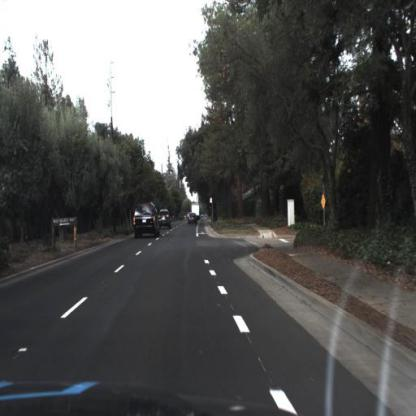car: (131, 199, 160, 241), (154, 207, 173, 231), (191, 201, 201, 217), (187, 211, 198, 225)
truck: (188, 198, 201, 224)
